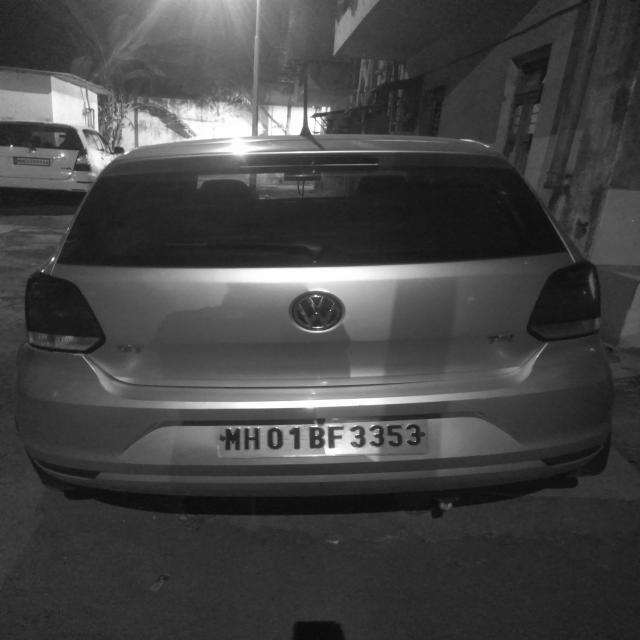car: (15, 132, 620, 517)
license-plate: (217, 421, 435, 458)
